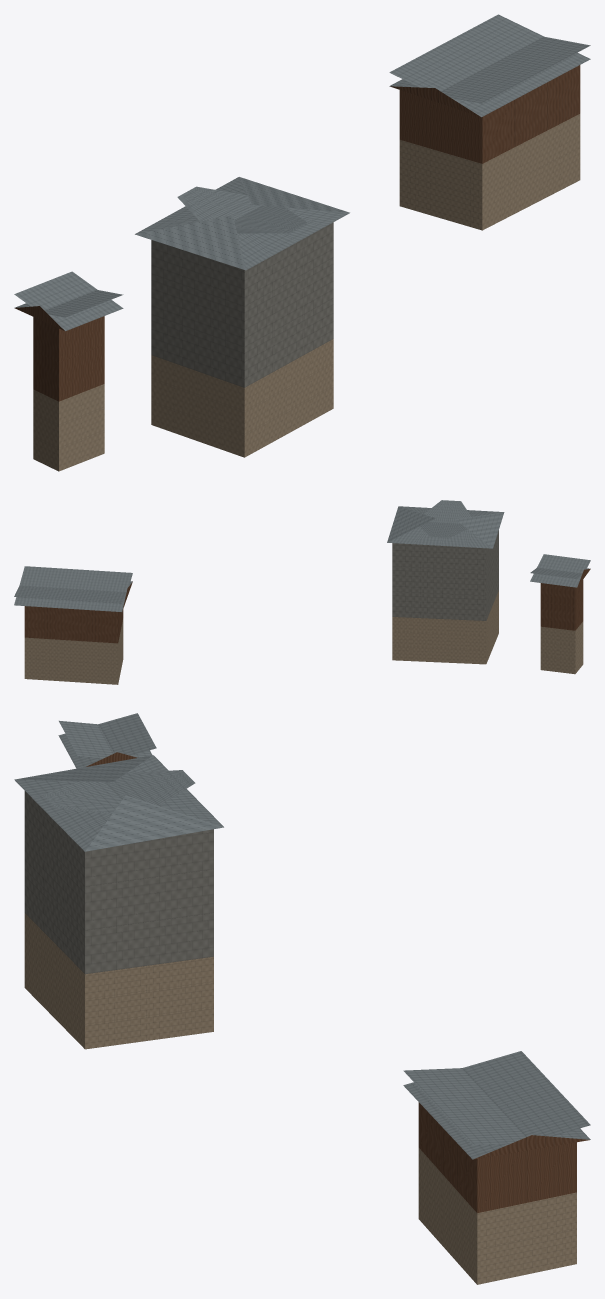
Rendered from bld_c-10_40_513.gltf.
The picture shows the model from 3 angles, top to bottom: view 1: azimuth 30°, elevation 25°; view 2: azimuth 150°, elevation 25°; view 3: azimuth 270°, elevation 25°; orthographic projection. The views are drawn at different scales.
Parts seen in each view (by area): view 1: bld_c-10_40_513; view 2: bld_c-10_40_513; view 3: bld_c-10_40_513.
Part boxes in pixels (<box>): bld_c-10_40_513: <box>14,14,590,471</box>; bld_c-10_40_513: <box>14,500,590,684</box>; bld_c-10_40_513: <box>14,713,590,1284</box>.
Bounding box in the file's own units: 55.99 × 15.7 × 35.49.
Materials: 5 (5 with a texture image).
